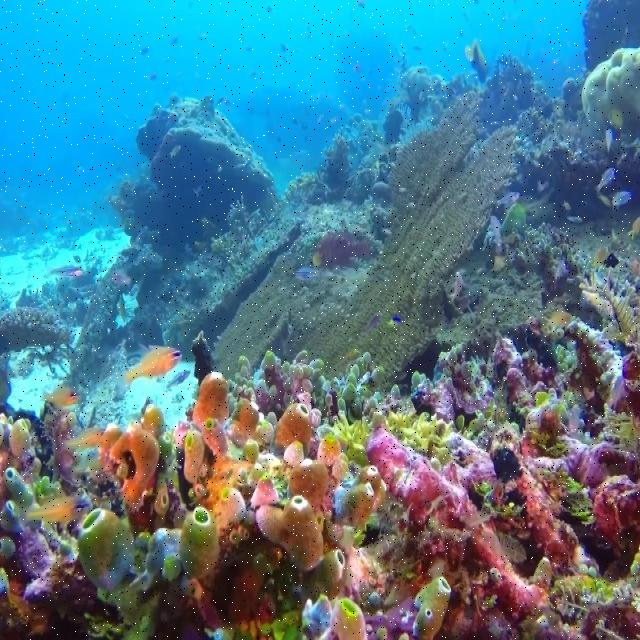fish: (110, 347, 180, 393), (17, 494, 90, 527), (591, 165, 616, 210), (44, 388, 79, 408), (538, 310, 574, 329), (493, 190, 521, 213), (466, 41, 486, 71), (362, 312, 383, 335), (294, 266, 325, 281), (48, 264, 81, 278), (609, 189, 633, 208), (165, 142, 186, 163), (110, 270, 131, 285), (386, 312, 402, 329), (147, 73, 159, 82), (566, 216, 583, 222), (249, 70, 259, 79), (140, 47, 149, 55), (170, 35, 179, 43), (267, 6, 276, 14), (280, 42, 288, 51)
reefs: (1, 4, 638, 637)
